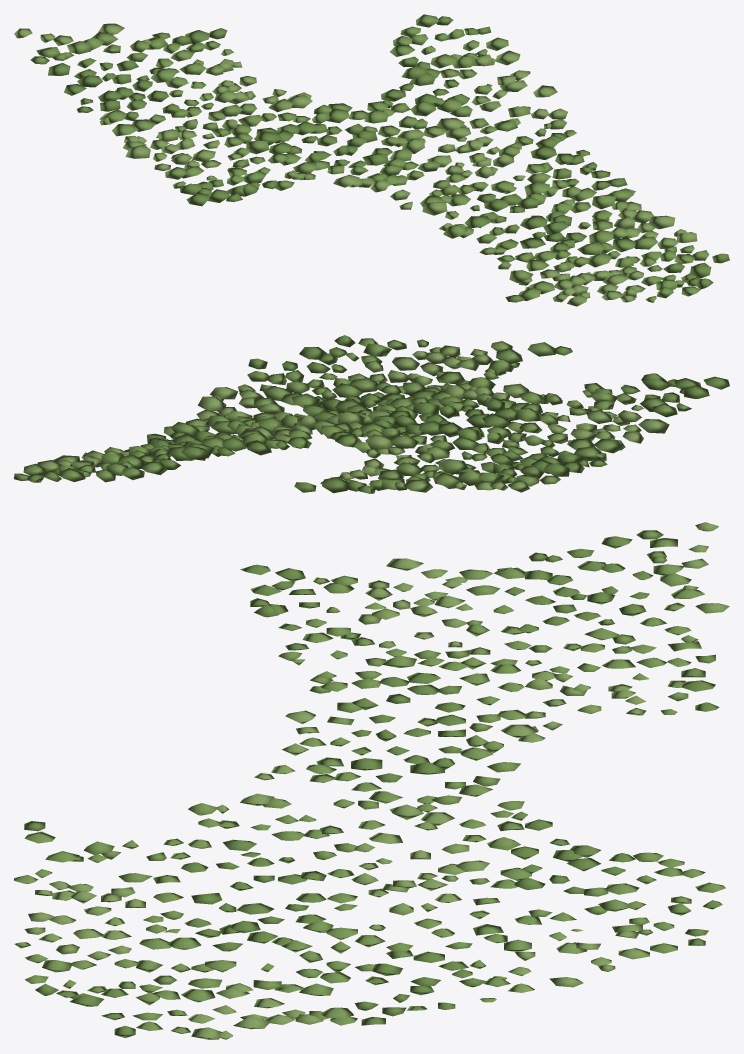
File: canopy-1-3-1.glb
3 renders of one model, top to bottom at view 1: azimuth 30°, elevation 25°; view 2: azimuth 150°, elevation 25°; view 3: azimuth 270°, elevation 25°, orthographic. The views are drawn at different scales.
Bounding box in the file's own units: 518 × 182 × 515.
Materials: 1 (1 with a texture image).
